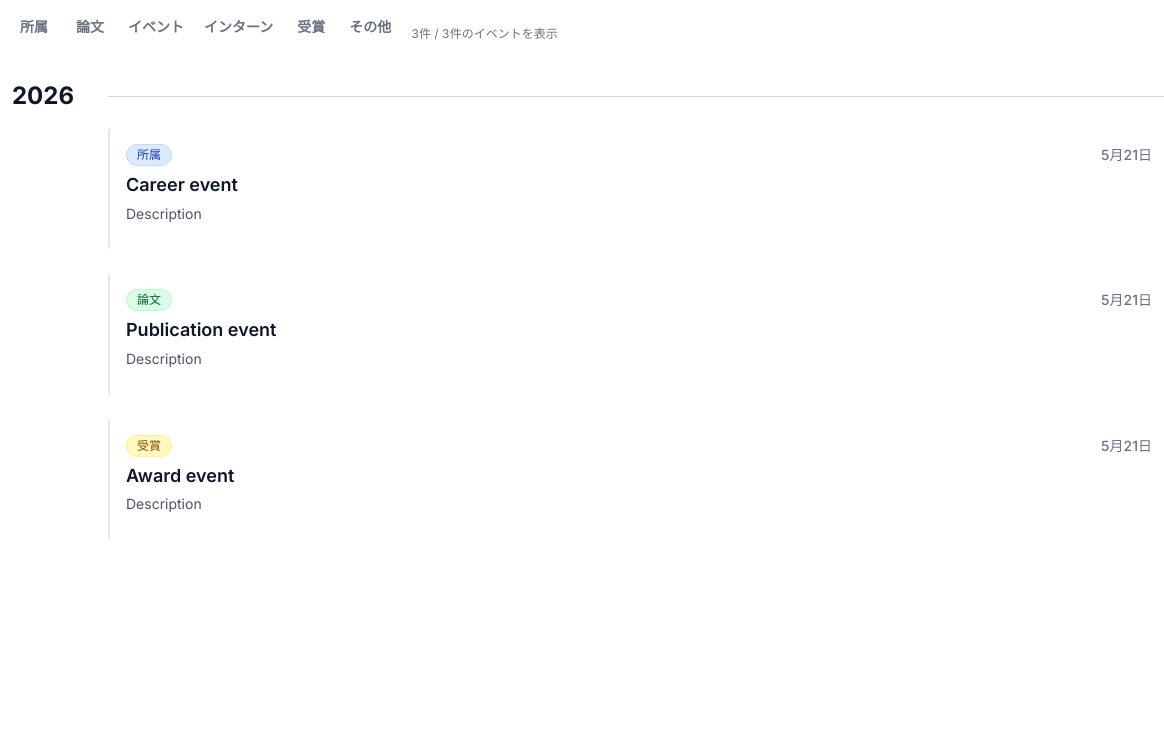
Test case: EventList › clears an active category filter
Step 1. Click the button "論文" → (90, 34), box x1=68 y1=12 x2=112 y2=56
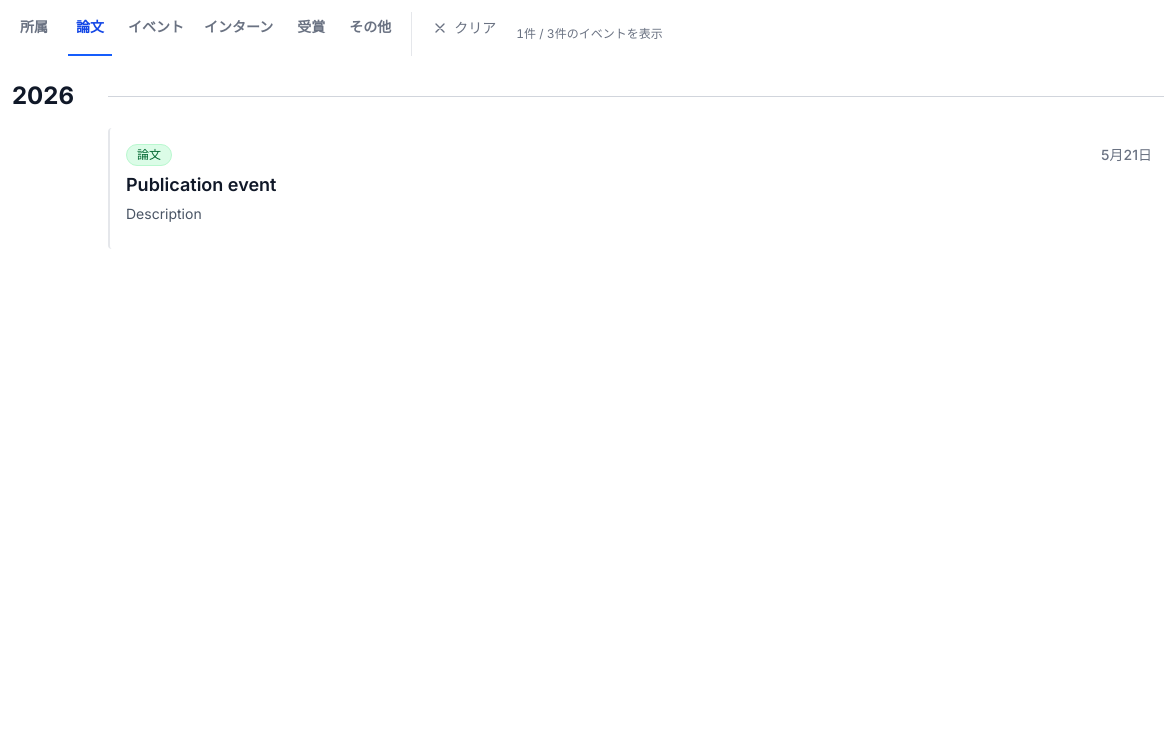
Step 2. Click the button "クリア" → (464, 34), box x1=428 y1=12 x2=500 y2=56
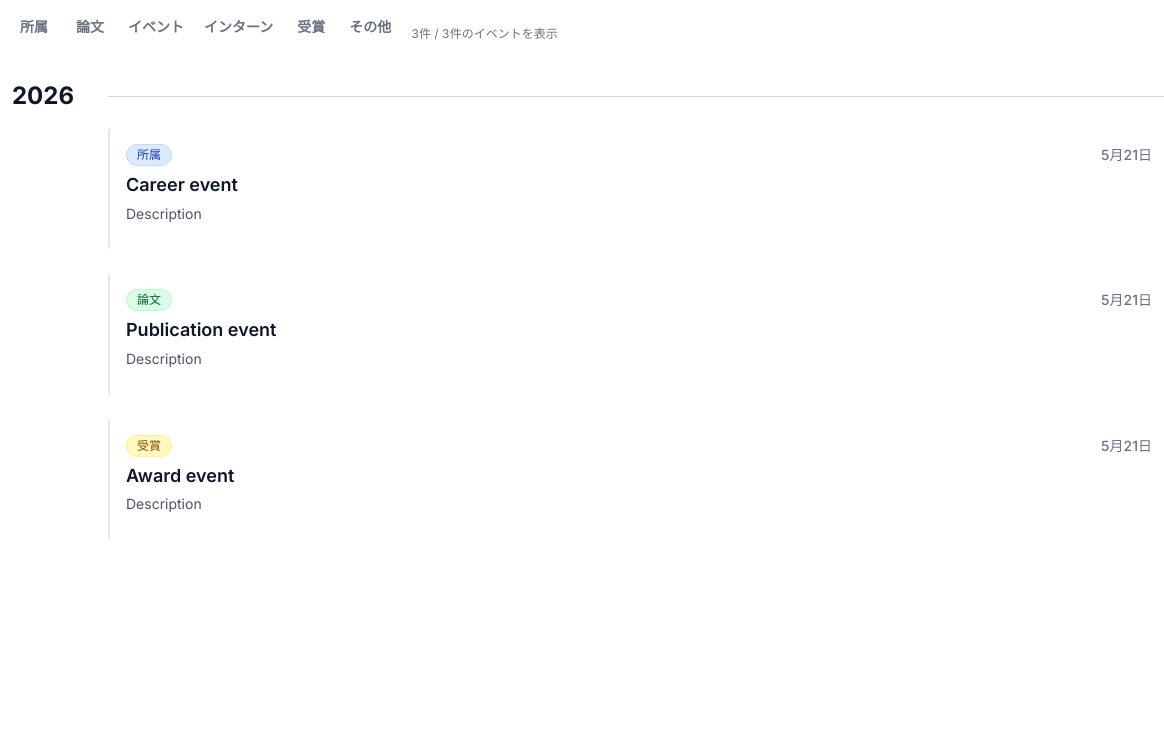
expect the text "3件 / 3件のイベントを表示" is shown: met, box x1=411 y1=26 x2=558 y2=42
expect the heading "Career event" is shown: met, box x1=126 y1=174 x2=238 y2=195
